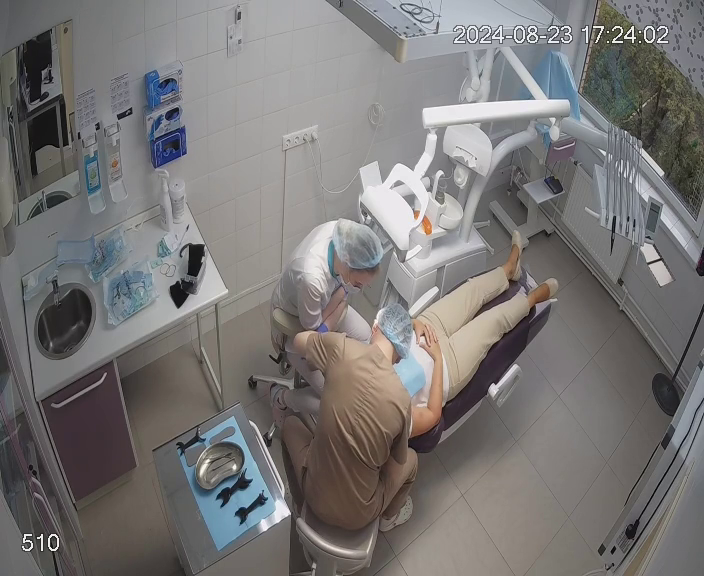Patient: (311, 229, 560, 477)
